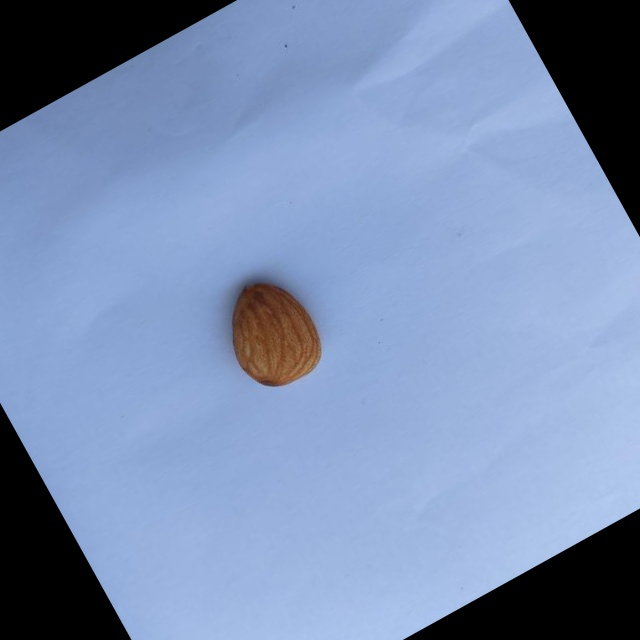grade1: (199, 254, 346, 410)
